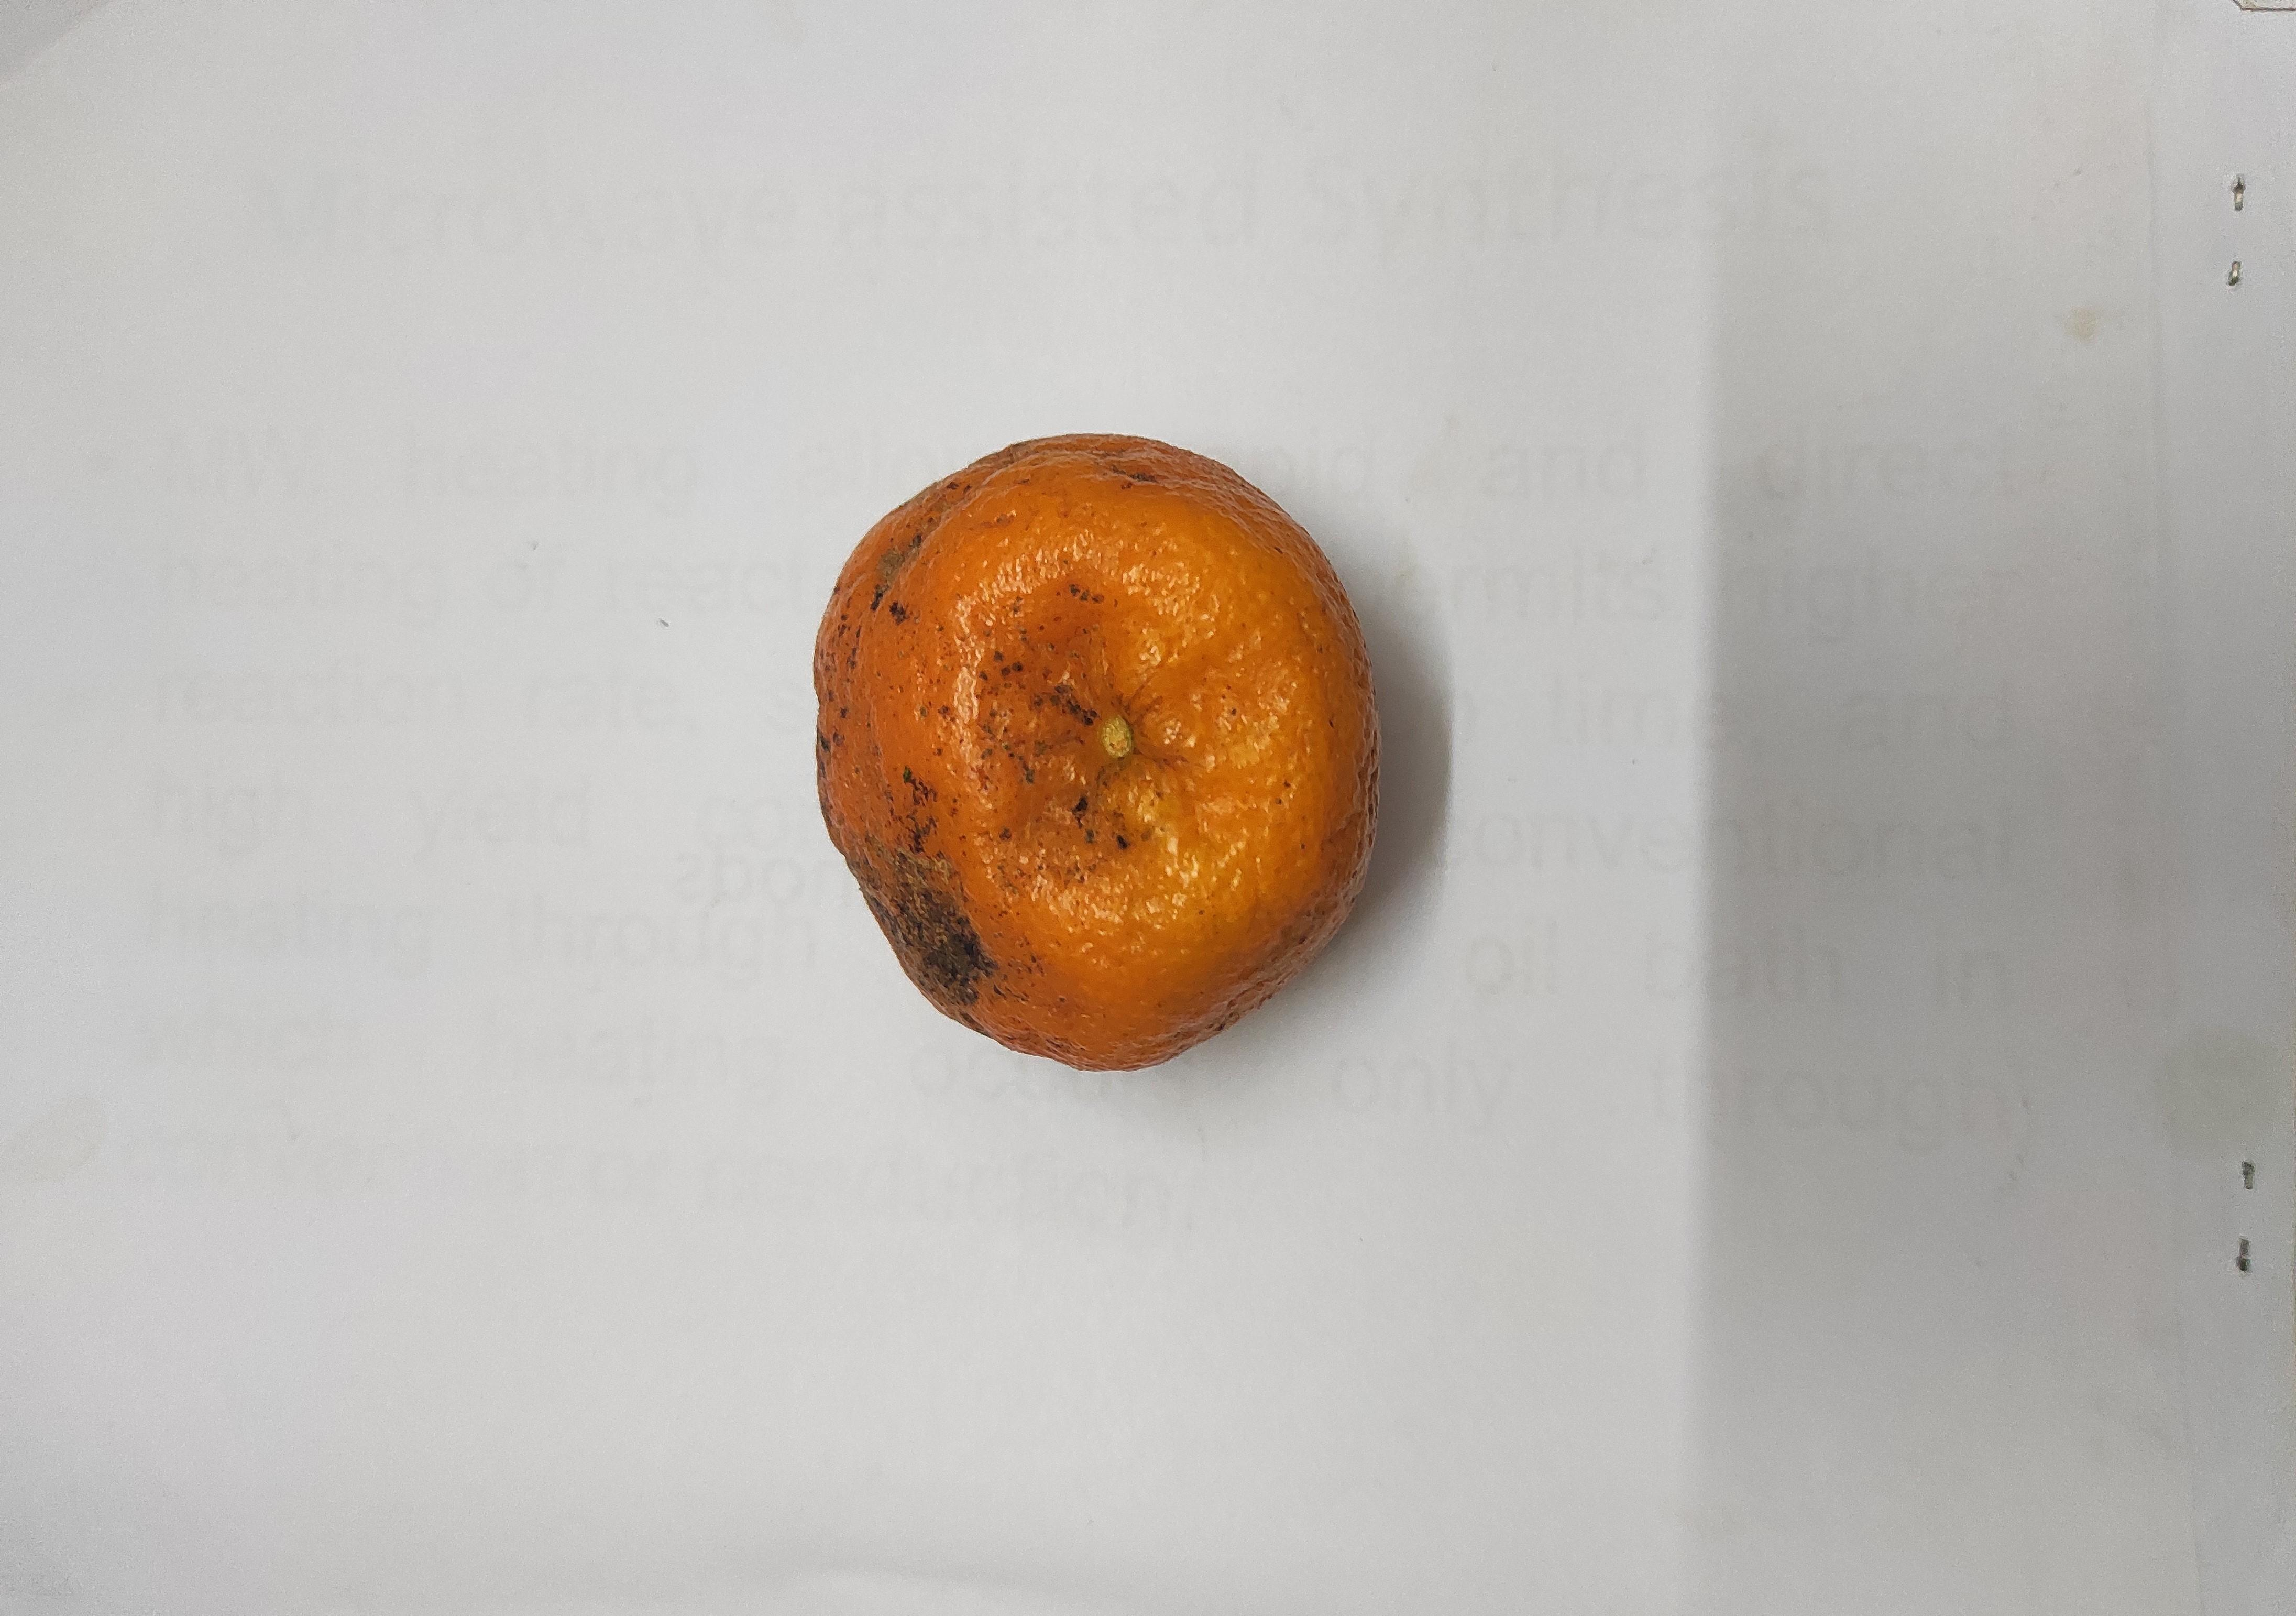Unripe: (811, 441, 1367, 1032)
